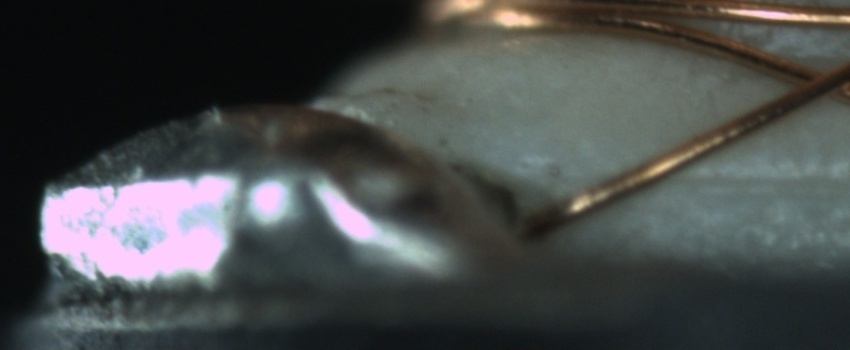CL: (778, 56, 847, 108)
DL: (668, 144, 850, 213)
